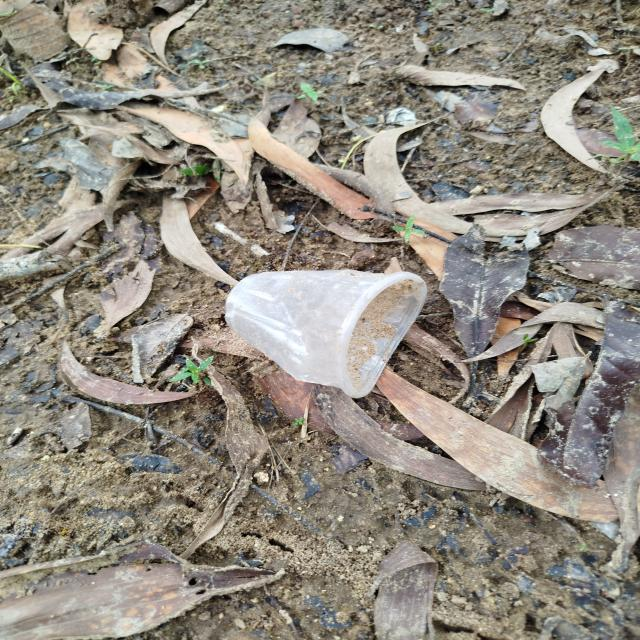plastic: (211, 261, 433, 411)
